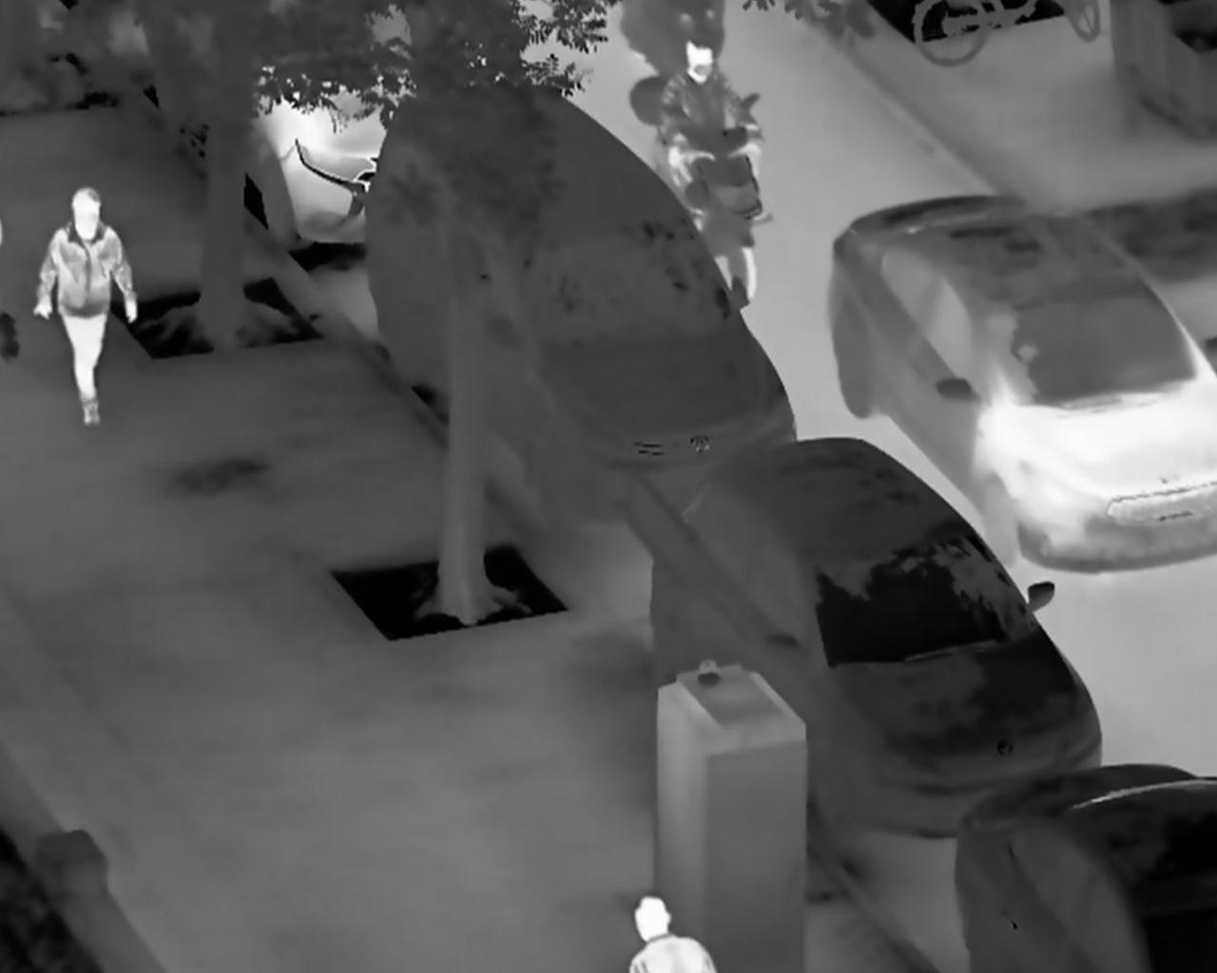person: (34, 186, 140, 429), (654, 34, 770, 226), (626, 886, 717, 973)
